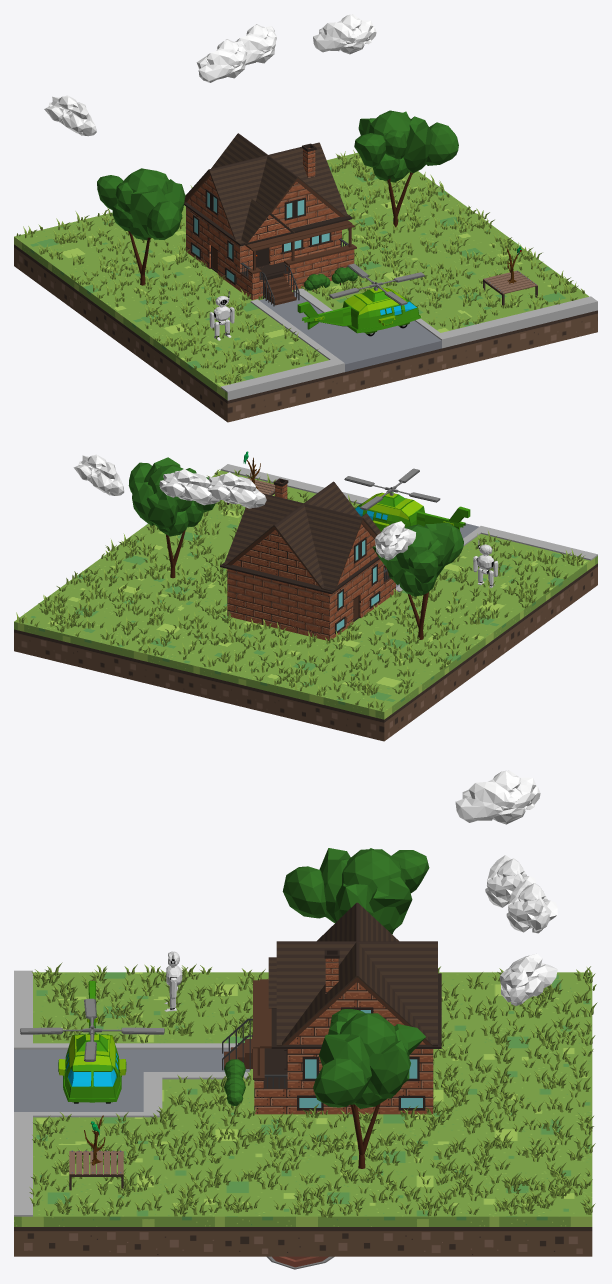
3 renders of one model, top to bottom at view 1: azimuth 30°, elevation 25°; view 2: azimuth 150°, elevation 25°; view 3: azimuth 270°, elevation 25°, orthographic. The views are drawn at different scales.
Parts seen in each view (by area): view 1: Cube.006, Cube.469, Circle.012_Grass_0.192, Cube.007, tree, tree.001, VEHICLES_HELICOPTER, Cube.009, OBJRANDOM_PLATZEEBOT; view 2: Cube.006, Cube.469, Circle.012_Grass_0.192, Cube.007, tree.001, tree, VEHICLES_HELICOPTER, OBJRANDOM_PLATZEEBOT; view 3: Cube.006, Circle.012_Grass_0.192, Cube.469, tree, Cube.007, tree.001, VEHICLES_HELICOPTER, Cube.009, OBJRANDOM_PLATZEEBOT.
Boxes of the visible parts, x1,y1,x2,y2 form: Cube.006: [14, 152, 597, 422]; Cube.469: [184, 133, 356, 306]; Circle.012_Grass_0.192: [16, 150, 584, 384]; Cube.007: [44, 14, 376, 136]; tree: [354, 110, 458, 227]; tree.001: [97, 168, 185, 285]; VEHICLES_HELICOPTER: [297, 263, 424, 336]; Cube.009: [483, 270, 537, 305]; OBJRANDOM_PLATZEEBOT: [209, 291, 234, 340]; Cube.006: [14, 464, 597, 741]; Cube.469: [220, 478, 395, 640]; Circle.012_Grass_0.192: [16, 469, 584, 711]; Cube.007: [73, 454, 415, 560]; tree.001: [372, 522, 463, 639]; tree: [128, 457, 215, 578]; VEHICLES_HELICOPTER: [344, 468, 470, 531]; OBJRANDOM_PLATZEEBOT: [473, 540, 498, 587]; Cube.006: [14, 970, 592, 1256]; Circle.012_Grass_0.192: [29, 962, 597, 1217]; Cube.469: [222, 902, 441, 1114]; tree: [313, 1009, 425, 1168]; Cube.007: [455, 770, 557, 1005]; tree.001: [282, 848, 429, 934]; VEHICLES_HELICOPTER: [20, 981, 164, 1103]; Cube.009: [69, 1150, 123, 1190]; OBJRANDOM_PLATZEEBOT: [164, 951, 182, 1011].
Bounding box in the file's own units: 4071 × 2892 × 4040.
39 materials, 4 textured.
